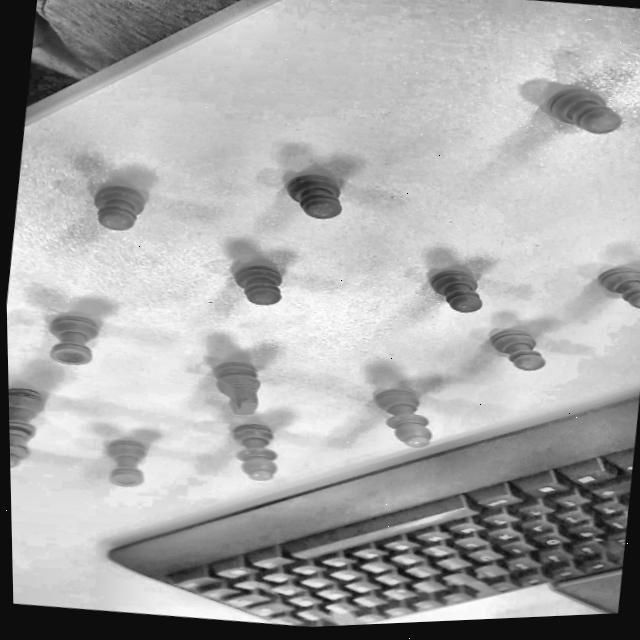white-bishop: (368, 385, 436, 451), (226, 420, 281, 484)
white-knight: (206, 356, 276, 420)
white-pawn: (534, 58, 631, 150), (281, 170, 345, 224), (425, 265, 487, 317), (89, 182, 147, 235), (486, 326, 547, 374), (231, 262, 284, 308), (592, 265, 640, 313)
white-queen: (9, 386, 49, 473)
white-rook: (44, 312, 100, 368), (102, 436, 148, 490)
